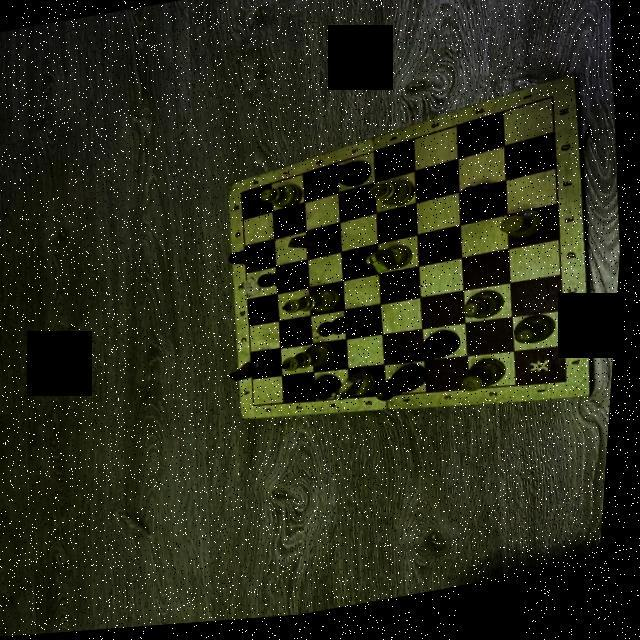chess-table-corners: (250, 402, 266, 414), (544, 100, 560, 112), (562, 384, 578, 396), (238, 192, 249, 202)
